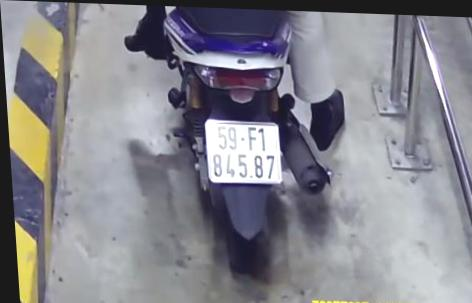License_Plate: (197, 110, 292, 193)
